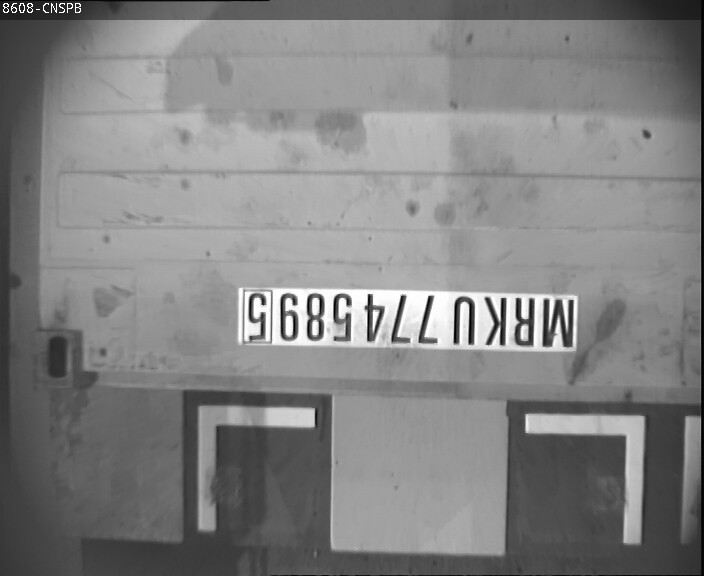groundmarker_1: (524, 412, 704, 543)
